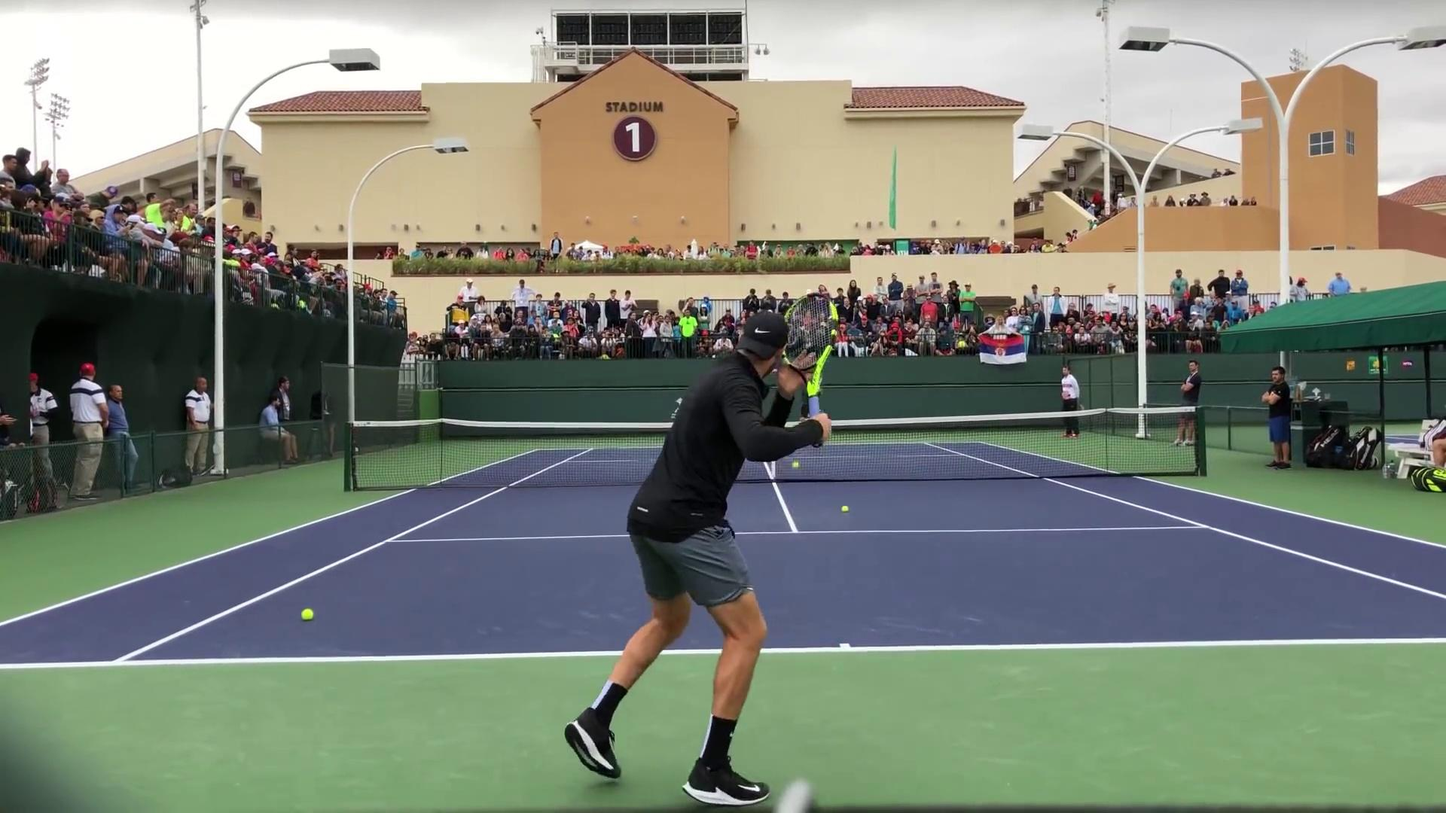ball: (300, 607, 314, 621), (791, 460, 801, 469), (841, 504, 850, 512)
